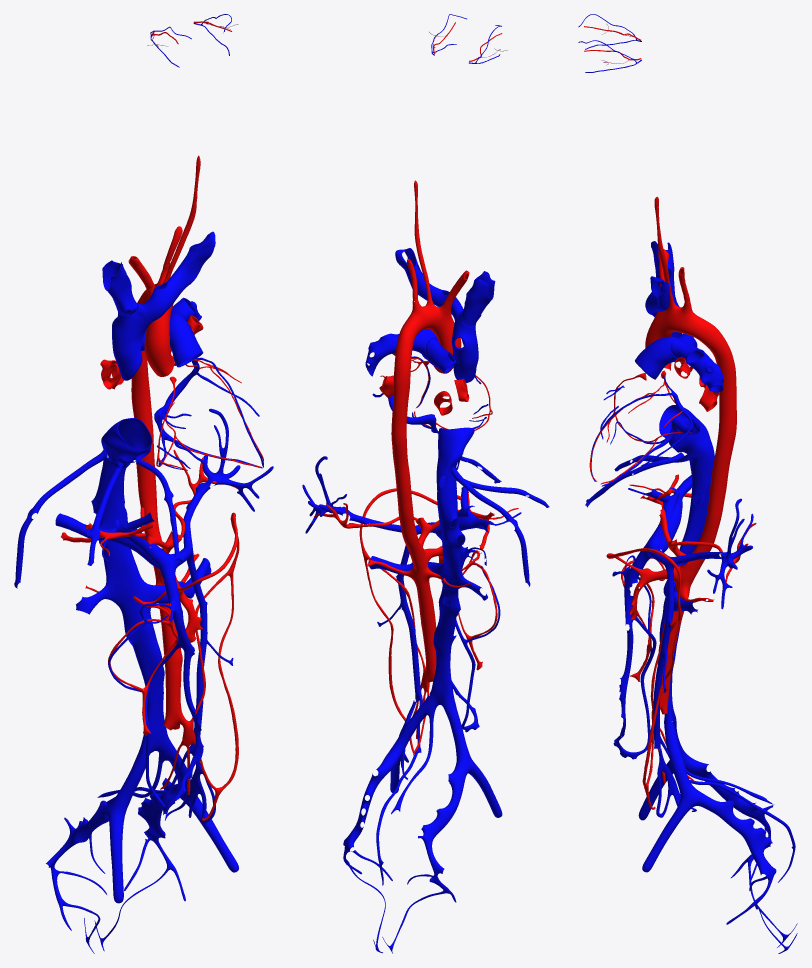
File: vascular.glb
The picture shows the model from 3 angles, left to right: view 1: azimuth 30°, elevation 25°; view 2: azimuth 150°, elevation 25°; view 3: azimuth 270°, elevation 25°; orthographic projection. The views are drawn at different scales.
Visible parts, largest first — view 1: VH_M_inferior_vena_cava_b, VH_M_descending_aorta_b, VH_M_inferior_vena_cava_a, VH_M_superior_mesenteric_vein, VH_M_splenic_vein, VH_M_brachiocephalic_vein_L, VH_M_superior_vena_cava, VH_M_marginal_artery_of_Drummond, VH_M_descending_aorta_a, VH_M_inferior_mesenteric_vein, VH_M_brachiocephalic_vein_R, VH_M_pulmonary_trunk (+18 smaller); view 2: VH_M_inferior_vena_cava_b, VH_M_descending_aorta_b, VH_M_descending_aorta_a, VH_M_inferior_vena_cava_a, VH_M_internal_iliac_vein_R, VH_M_aortic_arch, VH_M_superior_vena_cava, VH_M_splenic_vein, VH_M_brachiocephalic_vein_R, VH_M_brachiocephalic_vein_L, VH_M_internal_iliac_vein_L, VH_M_marginal_artery_of_Drummond (+8 smaller); view 3: VH_M_descending_aorta_a, VH_M_descending_aorta_b, VH_M_inferior_vena_cava_b, VH_M_inferior_vena_cava_a, VH_M_internal_iliac_vein_L, VH_M_aortic_arch, VH_M_splenic_vein, VH_M_superior_mesenteric_vein, VH_M_pulmonary_artery_L, VH_M_inferior_mesenteric_vein, VH_M_marginal_artery_of_Drummond, VH_M_common_iliac_vein_L (+12 smaller).
Boxes of the visible parts, x1=… form: VH_M_inferior_vena_cava_b: x1=91, y1=474, x2=169, y2=753; VH_M_descending_aorta_b: x1=136, y1=459, x2=182, y2=730; VH_M_inferior_vena_cava_a: x1=101, y1=418, x2=152, y2=482; VH_M_superior_mesenteric_vein: x1=158, y1=564, x2=203, y2=812; VH_M_splenic_vein: x1=170, y1=408, x2=273, y2=567; VH_M_brachiocephalic_vein_L: x1=142, y1=231, x2=215, y2=321; VH_M_superior_vena_cava: x1=112, y1=303, x2=152, y2=380; VH_M_marginal_artery_of_Drummond: x1=179, y1=512, x2=239, y2=820; VH_M_descending_aorta_a: x1=131, y1=298, x2=154, y2=461; VH_M_inferior_mesenteric_vein: x1=186, y1=548, x2=207, y2=755; VH_M_brachiocephalic_vein_R: x1=102, y1=260, x2=137, y2=315; VH_M_pulmonary_trunk: x1=169, y1=313, x2=203, y2=367; VH_M_inferior_vena_cava_b: x1=429, y1=489, x2=465, y2=707; VH_M_descending_aorta_b: x1=396, y1=486, x2=436, y2=682; VH_M_descending_aorta_a: x1=391, y1=343, x2=412, y2=489; VH_M_inferior_vena_cava_a: x1=436, y1=427, x2=474, y2=493; VH_M_internal_iliac_vein_R: x1=418, y1=762, x2=468, y2=883; VH_M_aortic_arch: x1=397, y1=305, x2=459, y2=349; VH_M_superior_vena_cava: x1=451, y1=311, x2=478, y2=382; VH_M_splenic_vein: x1=302, y1=456, x2=440, y2=534; VH_M_brachiocephalic_vein_R: x1=461, y1=271, x2=495, y2=326; VH_M_brachiocephalic_vein_L: x1=395, y1=248, x2=463, y2=320; VH_M_internal_iliac_vein_L: x1=343, y1=752, x2=399, y2=853; VH_M_marginal_artery_of_Drummond: x1=359, y1=488, x2=437, y2=752; VH_M_descending_aorta_a: x1=709, y1=334, x2=736, y2=488; VH_M_descending_aorta_b: x1=657, y1=485, x2=726, y2=714; VH_M_inferior_vena_cava_b: x1=659, y1=470, x2=712, y2=722; VH_M_inferior_vena_cava_a: x1=659, y1=405, x2=714, y2=472; VH_M_internal_iliac_vein_L: x1=696, y1=791, x2=776, y2=881; VH_M_aortic_arch: x1=647, y1=306, x2=721, y2=348; VH_M_splenic_vein: x1=645, y1=498, x2=753, y2=609; VH_M_superior_mesenteric_vein: x1=613, y1=546, x2=651, y2=753; VH_M_pulmonary_artery_L: x1=670, y1=338, x2=723, y2=392; VH_M_inferior_mesenteric_vein: x1=653, y1=561, x2=673, y2=749; VH_M_marginal_artery_of_Drummond: x1=606, y1=548, x2=681, y2=809; VH_M_common_iliac_vein_L: x1=665, y1=720, x2=698, y2=807.
Size of the model in its own units: 0.2362 by 0.8718 by 0.1874.
